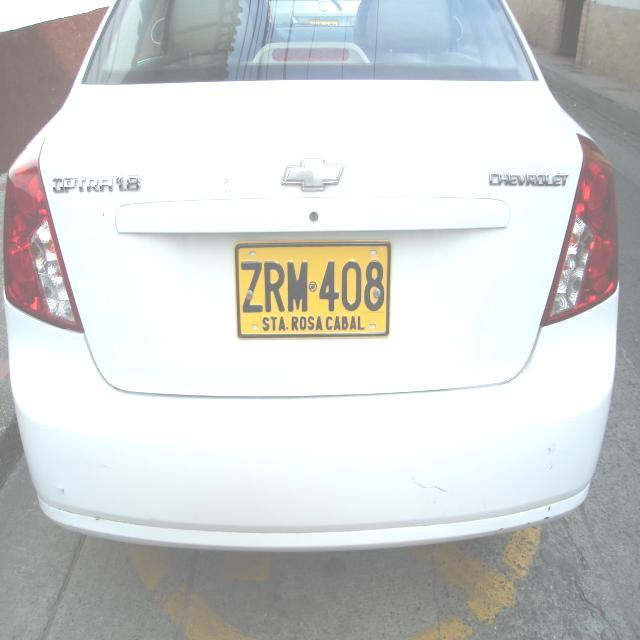placa: (231, 233, 394, 344)
